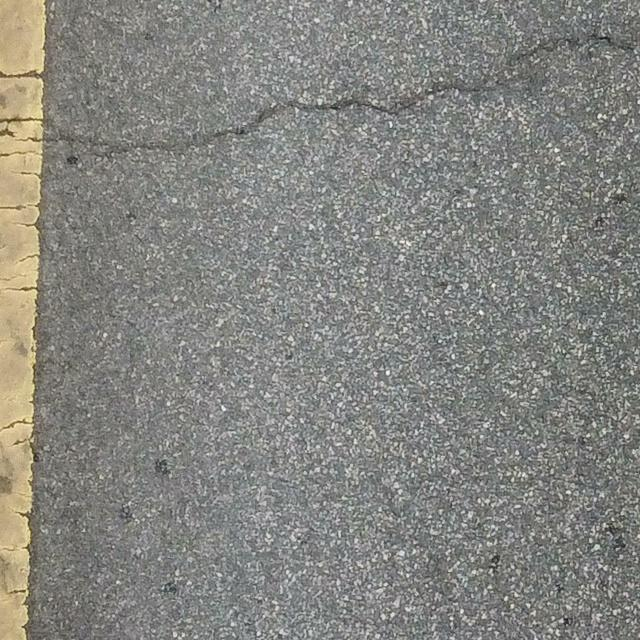TransverseCrack: (47, 33, 635, 151)
